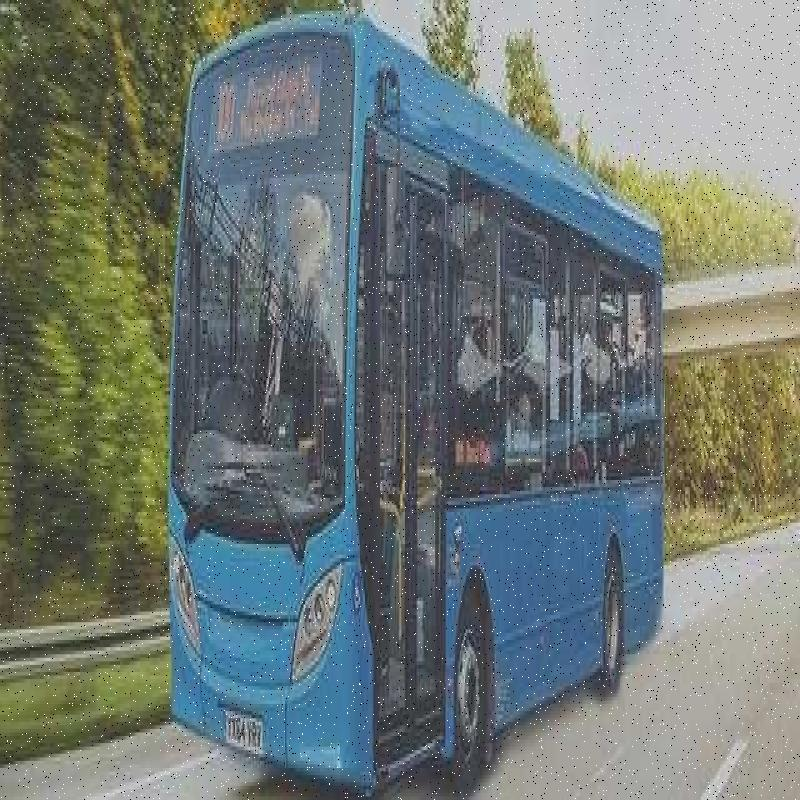bus: (190, 18, 684, 800)
